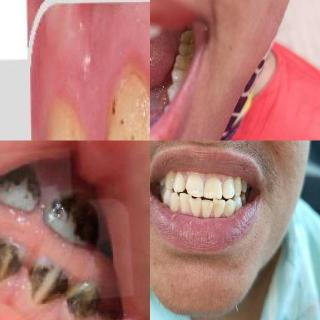Gum Swelling: (36, 28, 150, 140)
maligned: (210, 198, 226, 220), (179, 192, 193, 215), (223, 198, 239, 217), (188, 196, 202, 216), (200, 198, 213, 218), (170, 190, 181, 210)
plaque: (212, 204, 224, 218), (222, 207, 233, 219), (203, 208, 213, 220), (191, 205, 200, 217)
stains: (0, 159, 44, 208), (46, 198, 100, 234), (28, 264, 72, 300), (64, 282, 108, 318), (0, 233, 26, 279), (120, 102, 150, 140)
